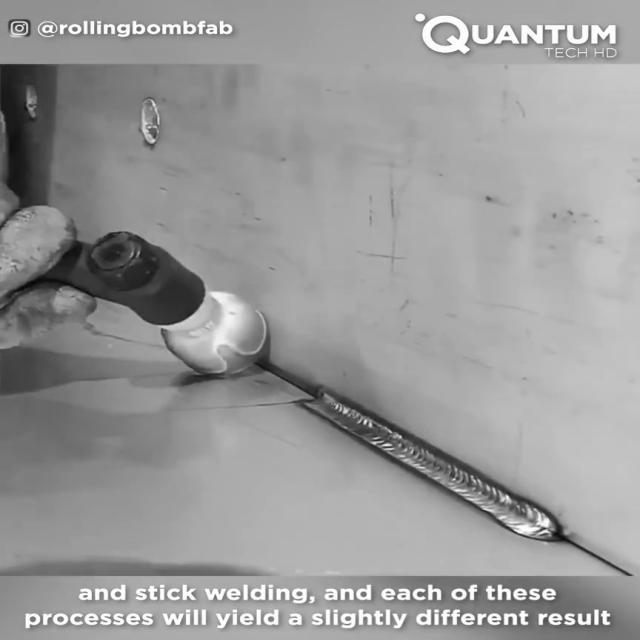Good Weld: (304, 392, 560, 547)
